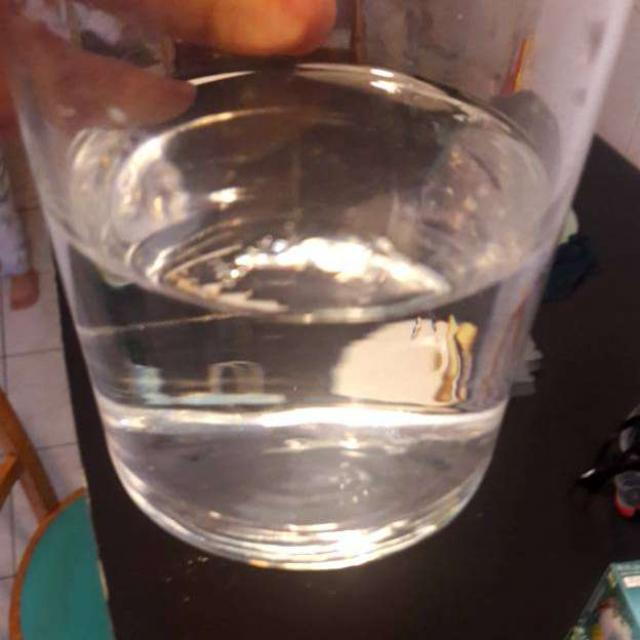water: (55, 61, 557, 548)
